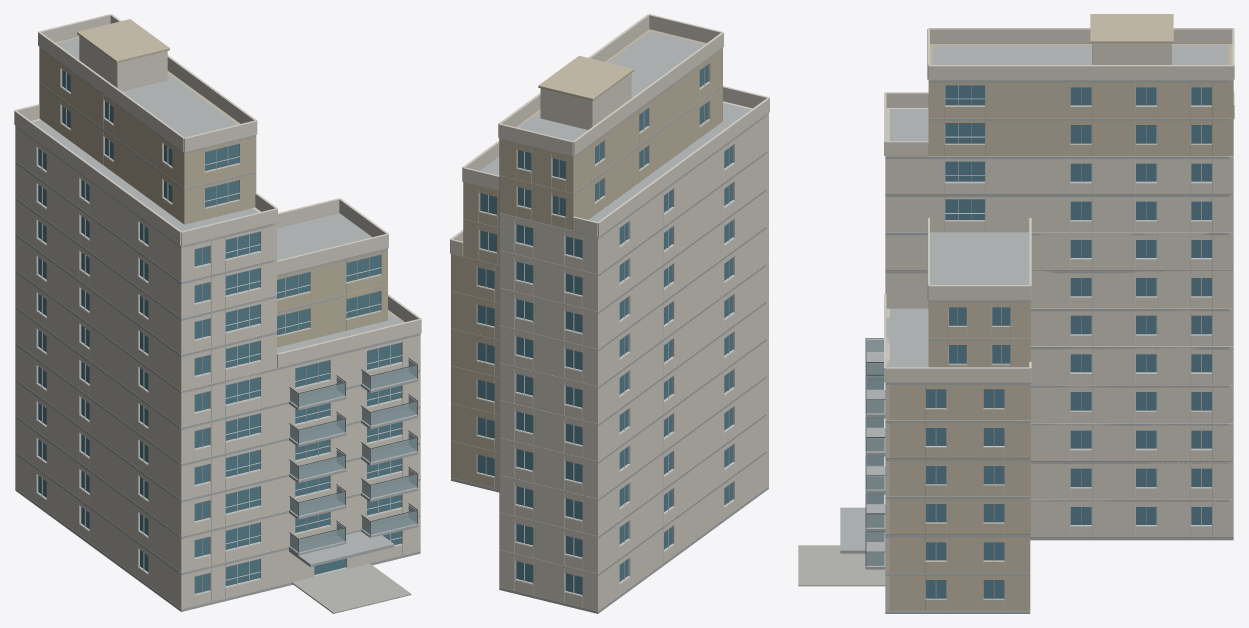
File: APARTMENT_C_MIDRISE.fbx
3 renders of one model, left to right at view 1: azimuth 30°, elevation 25°; view 2: azimuth 150°, elevation 25°; view 3: azimuth 270°, elevation 25°, orthographic. The views are drawn at different scales.
Parts seen in each view (by area): view 1: UNITY_ASSET_APARTMENT_C_MIDRISE; view 2: UNITY_ASSET_APARTMENT_C_MIDRISE; view 3: UNITY_ASSET_APARTMENT_C_MIDRISE.
Part boxes in pixels (x1,y1,x2,y2): UNITY_ASSET_APARTMENT_C_MIDRISE: (14, 14, 421, 613); UNITY_ASSET_APARTMENT_C_MIDRISE: (450, 14, 769, 613); UNITY_ASSET_APARTMENT_C_MIDRISE: (798, 14, 1234, 613).
Size of the model in its own units: 20.18 by 37.6 by 30.09.
